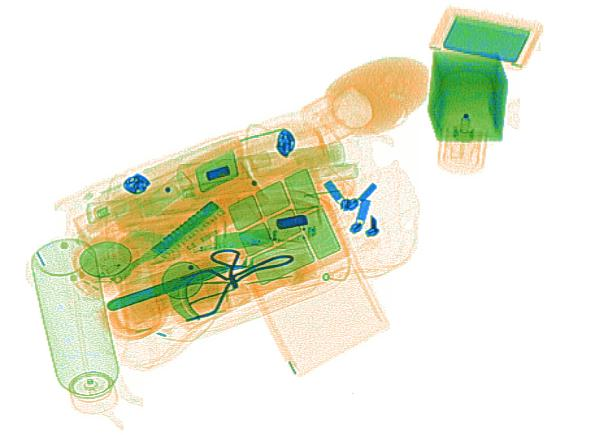pressure: (30, 238, 120, 413)
